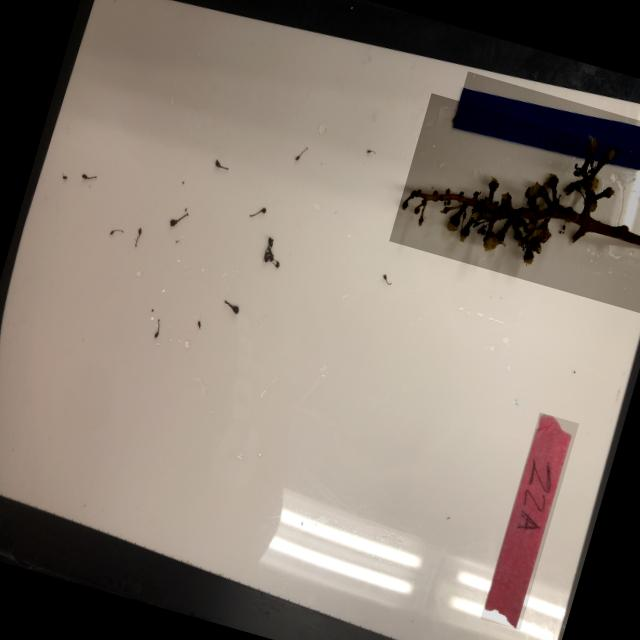index: (479, 412, 578, 630)
measure_label: (449, 71, 640, 192)
rachis_cluster: (387, 92, 640, 312)
